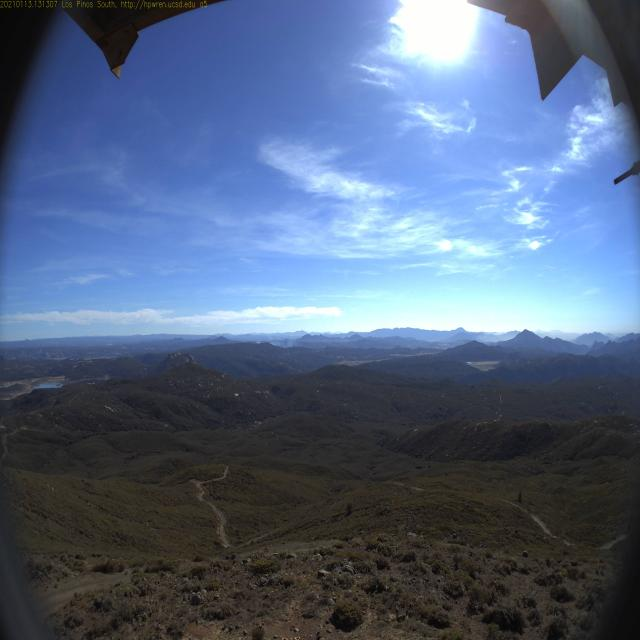smoke: (257, 326, 295, 349)
